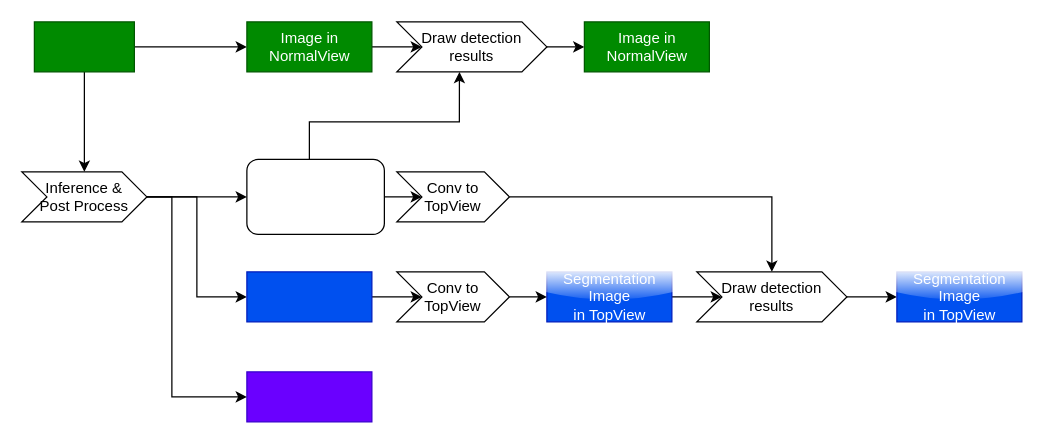
This 1044x444 diagram has some shape labels left out. Each missing label, with the box of its shape:
Depth Image in NormalView: (246, 371, 372, 422)
Detection Results - object - lane: (246, 158, 384, 234)
Orignal Image: (33, 21, 134, 72)
Segmentation Image in NormalView: (246, 271, 372, 322)
